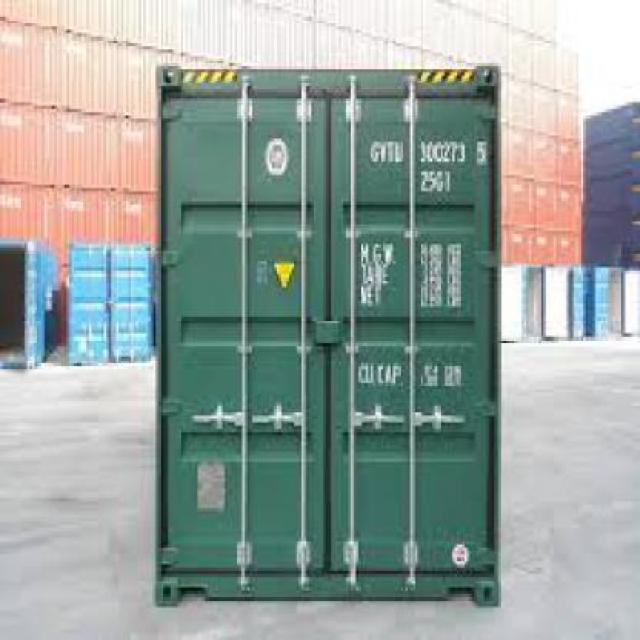ISO: (419, 167, 456, 194)
container_number: (368, 140, 486, 164)
